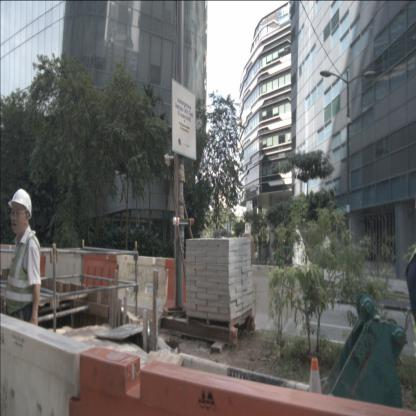barrier: (68, 347, 415, 415), (0, 312, 96, 416), (116, 252, 166, 312), (163, 258, 207, 317), (43, 246, 84, 295), (82, 248, 119, 296)
